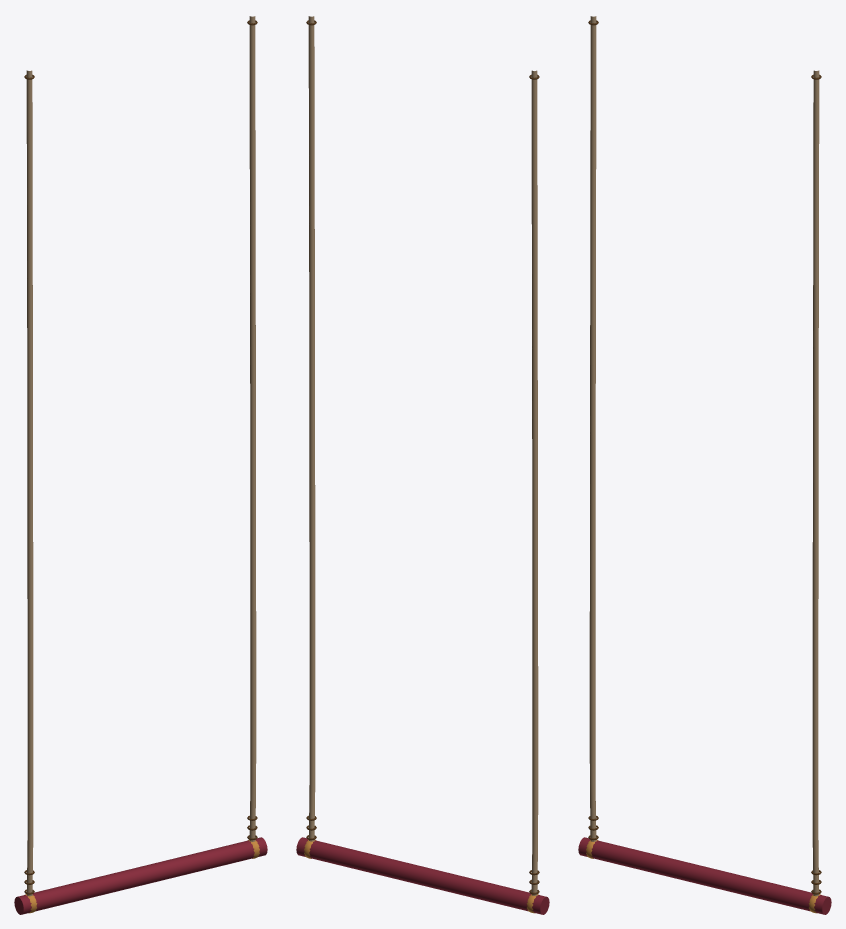
The model's file is mia-trapeze.glb.
3 views of the same model, side by side, from view 1: azimuth 30°, elevation 25°; view 2: azimuth 150°, elevation 25°; view 3: azimuth 330°, elevation 25° (orthographic).
Visible parts, largest first — view 1: Body_page-beige, Body_velvet; view 2: Body_page-beige, Body_velvet; view 3: Body_page-beige, Body_velvet.
Boxes of the visible parts, left/top/right/bottom form: Body_page-beige: left=26, top=16, right=256, bottom=896; Body_velvet: left=14, top=837, right=267, bottom=914; Body_page-beige: left=308, top=16, right=538, bottom=895; Body_velvet: left=296, top=837, right=549, bottom=914; Body_page-beige: left=589, top=16, right=819, bottom=896; Body_velvet: left=578, top=837, right=831, bottom=914.
Size of the model in its own units: 1.11 by 3.65 by 0.078.
